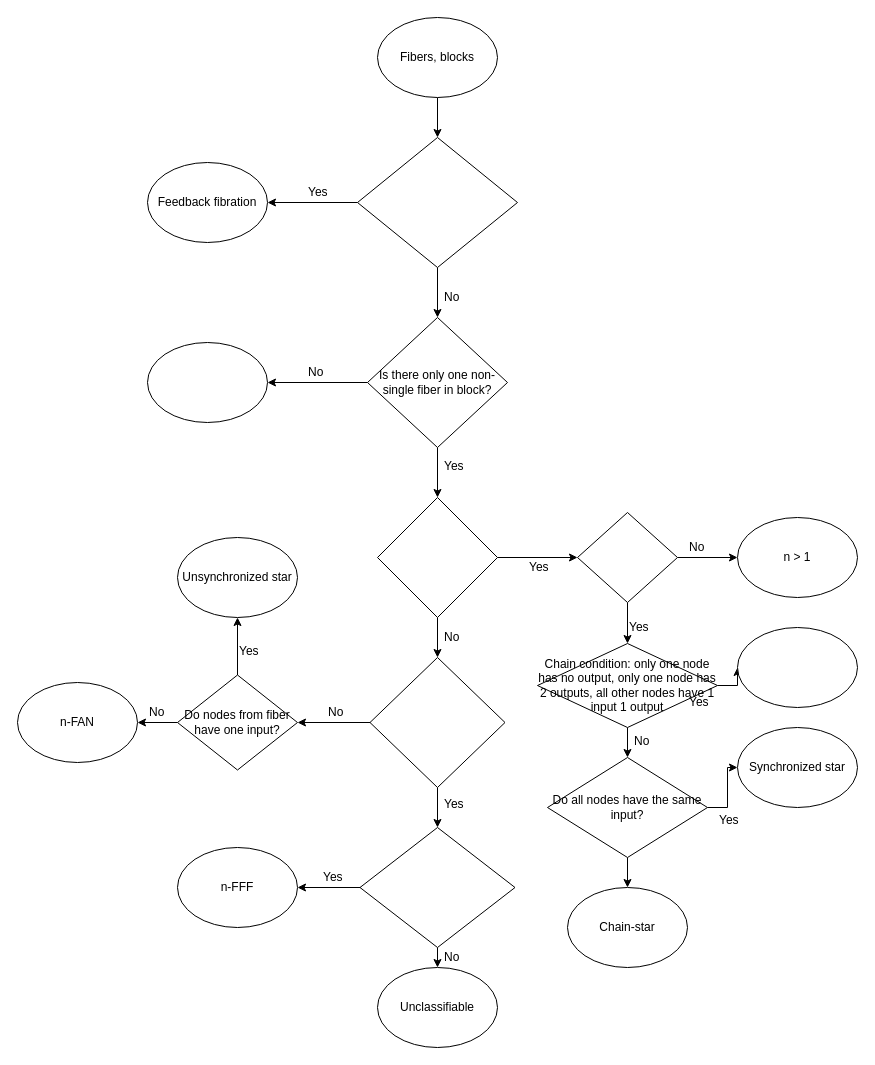
Some shapes in this 875 by 1065 pixel diagram are drawn without their labels. Here are the shapes that lost their labels. From the top down, the centre of each, then its label:
(437,202): Does any node in fiber send to regulators?
(207,382): Multi-layered fiber
(437,557): Are all nodes from block in the fiber?
(627,557): Does input set have size 1?
(797,667): Chain
(437,722): Do nodes in fiber have input from nodes in fiber?
(437,887): Input set has 1 node from fiber and n nodes regulators?
